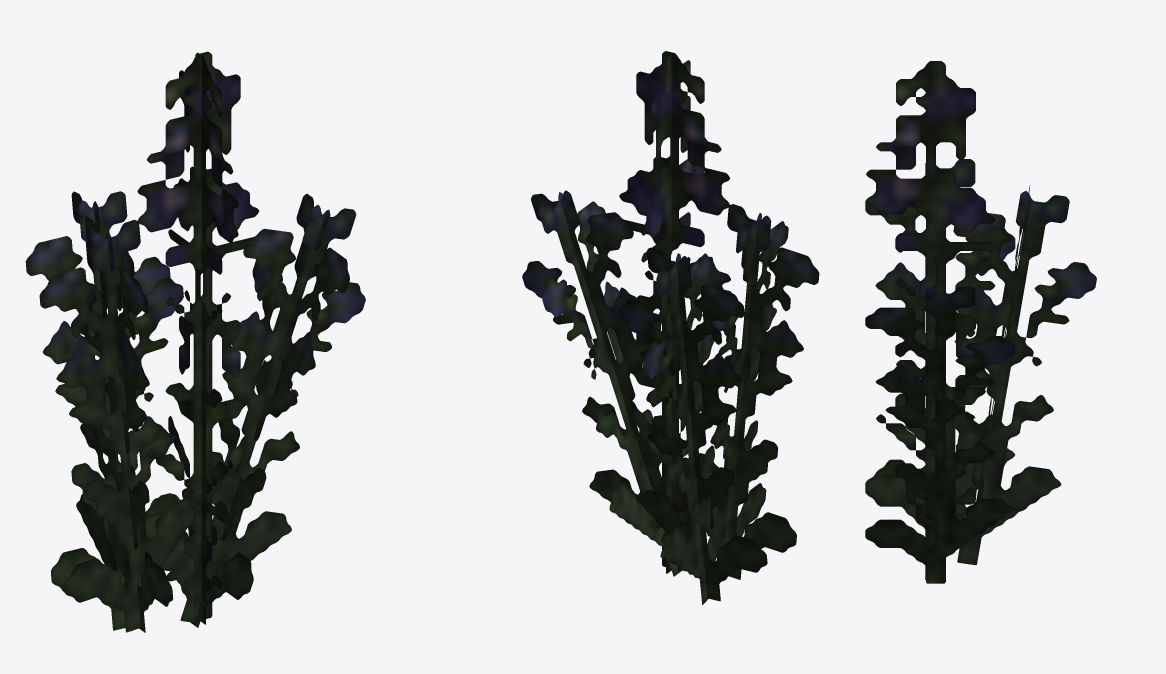
File: SM_EC_Plant_Bush_15.fbx
3 renders of one model, left to right at view 1: azimuth 30°, elevation 25°; view 2: azimuth 150°, elevation 25°; view 3: azimuth 270°, elevation 25°, orthographic. The views are drawn at different scales.
Visible parts, largest first — view 1: SM_EC_Plant_Bush_15; view 2: SM_EC_Plant_Bush_15; view 3: SM_EC_Plant_Bush_15.
Boxes of the visible parts, x1,y1,x2,y2 form: SM_EC_Plant_Bush_15: [25, 51, 365, 632]; SM_EC_Plant_Bush_15: [522, 51, 819, 604]; SM_EC_Plant_Bush_15: [865, 61, 1096, 583].
Bounding box in the file's own units: 0.6738 × 0.4587 × 0.9862.
